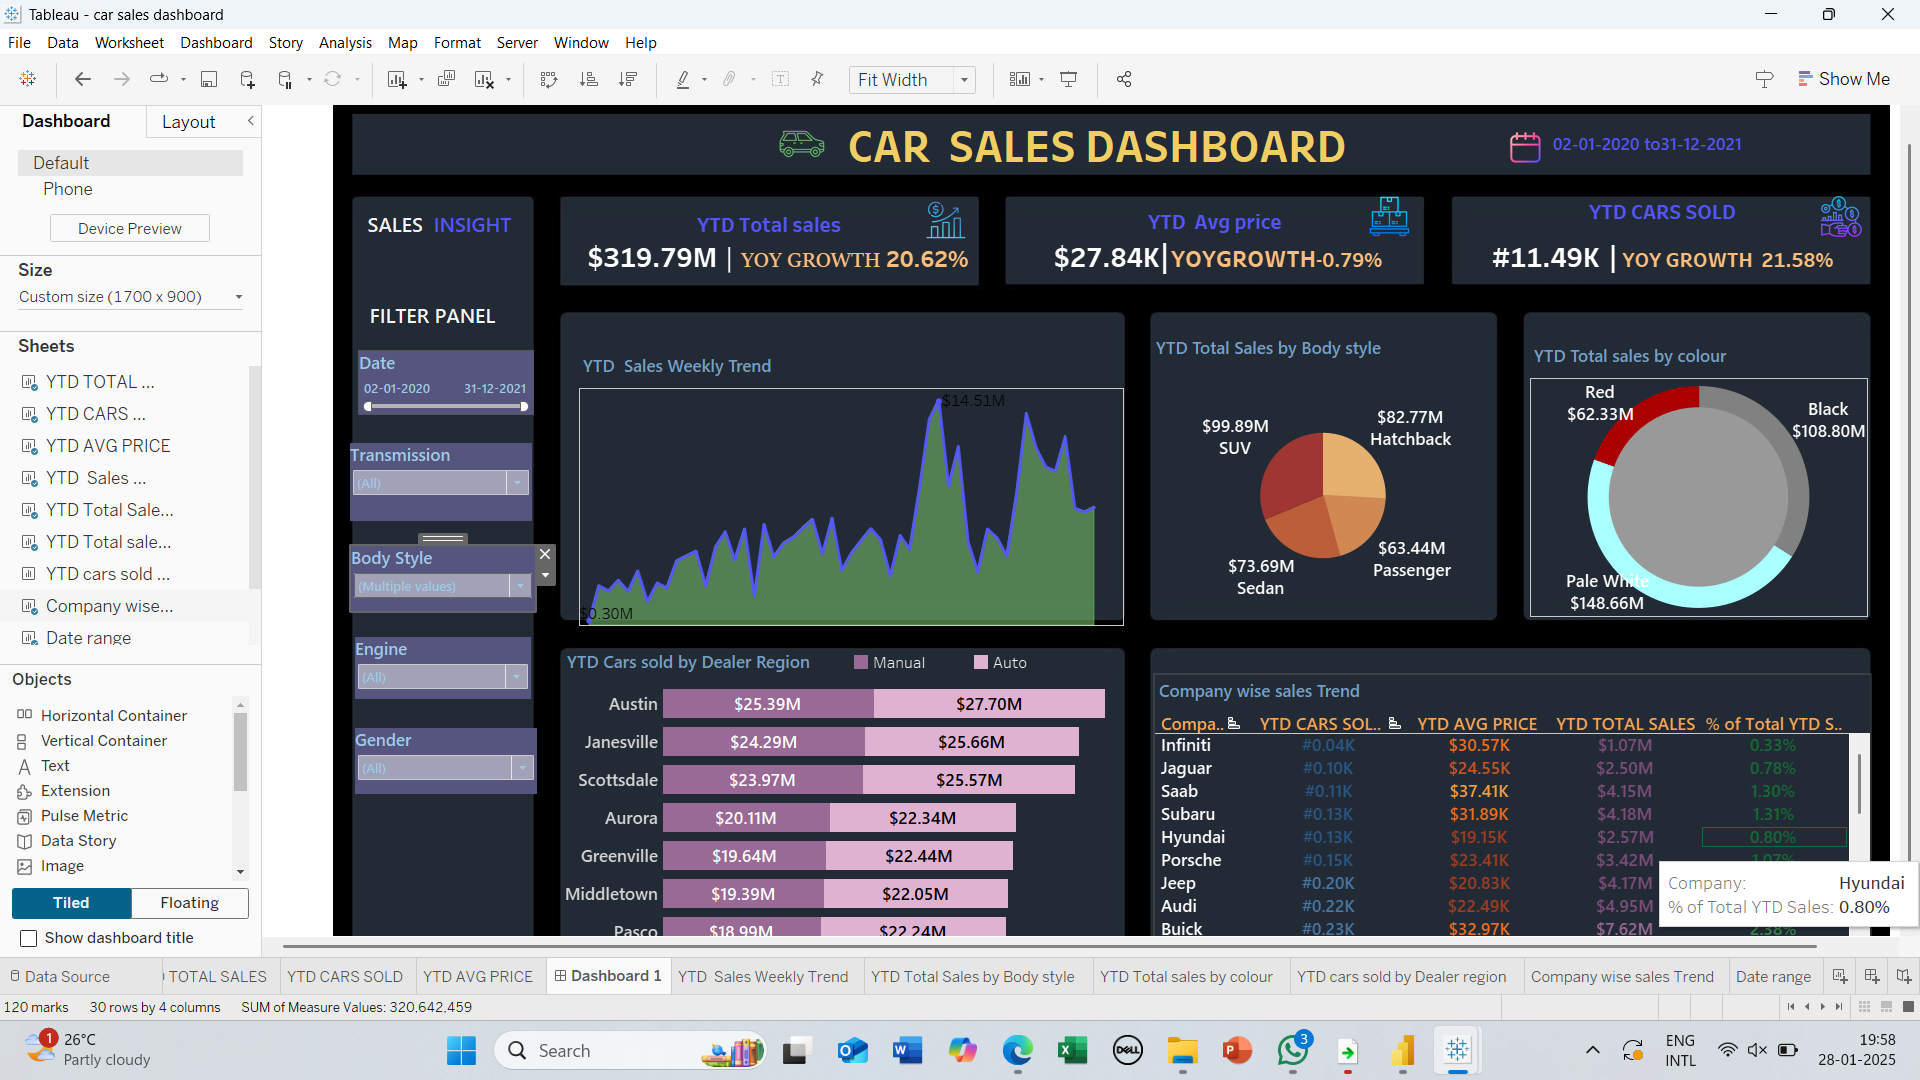

The dashboard page shown, as its layout file describes it:
{"tool":"tableau","page":{"name":"Dashboard 1","canvas":[1700,900],"ordinal":0},"visuals":[{"type":"image","param":"D:/tableau/Car Sales Background.jpg","box":[8,8,1684,884]},{"type":"image","param":"C:/Users/JAYASR~1/AppData/Local/Temp/TableauTemp/13j4i010uwuuem19qo1pn0oo4ol9/Sh","box":[18,18,54,42]},{"type":"image","param":"C:/Users/JAYASR~1/AppData/Local/Temp/TableauTemp/13j4i010uwuuem19qo1pn0oo4ol9/Sh","box":[18,18,54,42]},{"type":"worksheet","title":"Date range","mark":"Automatic","box":[1165,30,443,58]},{"type":"image","param":"D:/powerbi/Car Icon.png","box":[513,32,60,53]},{"type":"text","box":[582,38,506,42]},{"type":"image","param":"D:/tableau/calendar.png","box":[1246,45,72,34]},{"type":"image","param":"D:/powerbi/Avg Price Icon.png","box":[1106,110,54,42]},{"type":"image","param":"D:/powerbi/Cars Sold Icon.png","box":[1558,110,54,42]},{"type":"worksheet","title":"YTD CARS SOLD","mark":"Automatic","box":[1190,112,422,82]},{"type":"worksheet","title":"YTD TOTAL SALES","mark":"Automatic","box":[299,113,417,90]},{"type":"image","param":"D:/powerbi/Sales Icon.png","box":[662,113,54,43]},{"type":"worksheet","title":"YTD AVG PRICE","mark":"Automatic","box":[744,113,419,88]},{"type":"text","box":[97,124,161,30]},{"type":"text","box":[90,215,161,30]},{"type":"worksheet","title":"YTD  Sales Weekly Trend","mark":"Area","rows":["Calculation_524387896117342208","Calculation_524387896117342208"],"cols":["Date"],"box":[306,246,545,276]},{"type":"worksheet","title":"YTD Total Sales by Body style","mark":"Pie","box":[890,247,342,289]},{"type":"worksheet","title":"YTD Total sales by colour","mark":"Pie","rows":["Calculation_524387896181137422","Calculation_524387896181137422"],"box":[1268,255,338,277]},{"type":"filter","title":"Company wise sales Trend","param":"[federated.1jyx7id03eltg5177ga1m0rf2ots].[none:Date:qk]","box":[96,265,176,65]},{"type":"filter","title":"Company wise sales Trend","param":"[federated.1jyx7id03eltg5177ga1m0rf2ots].[none:Transmission:nk]","box":[88,358,182,78]},{"type":"filter","title":"Company wise sales Trend","param":"[federated.1jyx7id03eltg5177ga1m0rf2ots].[none:Body Style:nk]","box":[89,461,184,65]},{"type":"filter","title":"Company wise sales Trend","param":"[federated.1jyx7id03eltg5177ga1m0rf2ots].[none:Engine:nk]","box":[93,552,176,62]},{"type":"worksheet","title":"YTD Cars sold by Dealer Region","mark":"Automatic","rows":["Dealer_Region"],"cols":["Calculation_524387896117342208"],"box":[301,561,564,304]},{"type":"legend","title":"YTD Cars sold by Dealer Region","param":"[federated.1jyx7id03eltg5177ga1m0rf2ots].[none:Transmission:nk]","box":[589,567,267,27]},{"type":"worksheet","title":"Company wise sales Trend","mark":"Automatic","rows":["Company"],"box":[893,590,715,277]},{"type":"filter","title":"Company wise sales Trend","param":"[federated.1jyx7id03eltg5177ga1m0rf2ots].[none:Gender:nk]","box":[93,643,182,66]}]}

Visuals, with their boxes on the page's 1700x900 design canvas (x1, y1, x2, y2). These are canvas units, not pixel positions in the 1920x1080 screenshot, which may show the page scaled, cropped or inside an application window:
image: (8,8,1692,892)
image: (18,18,72,60)
image: (18,18,72,60)
"Date range" worksheet: (1165,30,1608,88)
image: (513,32,573,85)
text: (582,38,1088,80)
image: (1246,45,1318,79)
image: (1106,110,1160,152)
image: (1558,110,1612,152)
"YTD CARS SOLD" worksheet: (1190,112,1612,194)
"YTD TOTAL SALES" worksheet: (299,113,716,203)
image: (662,113,716,156)
"YTD AVG PRICE" worksheet: (744,113,1163,201)
text: (97,124,258,154)
text: (90,215,251,245)
"YTD  Sales Weekly Trend" worksheet (Area marks): (306,246,851,522)
"YTD Total Sales by Body style" worksheet (Pie marks): (890,247,1232,536)
"YTD Total sales by colour" worksheet (Pie marks): (1268,255,1606,532)
"Company wise sales Trend" filter: (96,265,272,330)
"Company wise sales Trend" filter: (88,358,270,436)
"Company wise sales Trend" filter: (89,461,273,526)
"Company wise sales Trend" filter: (93,552,269,614)
"YTD Cars sold by Dealer Region" worksheet: (301,561,865,865)
"YTD Cars sold by Dealer Region" legend: (589,567,856,594)
"Company wise sales Trend" worksheet: (893,590,1608,867)
"Company wise sales Trend" filter: (93,643,275,709)
